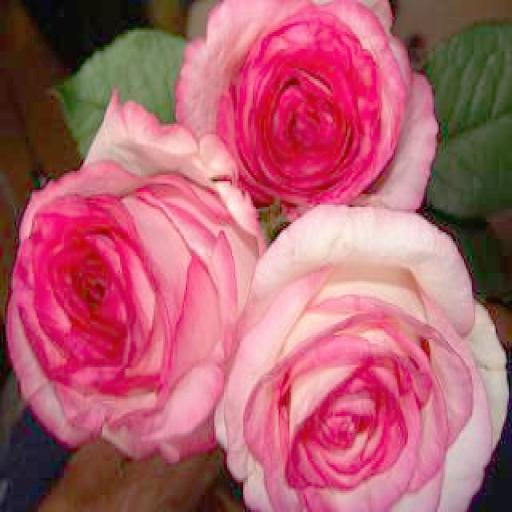rose: (2, 90, 268, 460), (219, 202, 512, 512)
